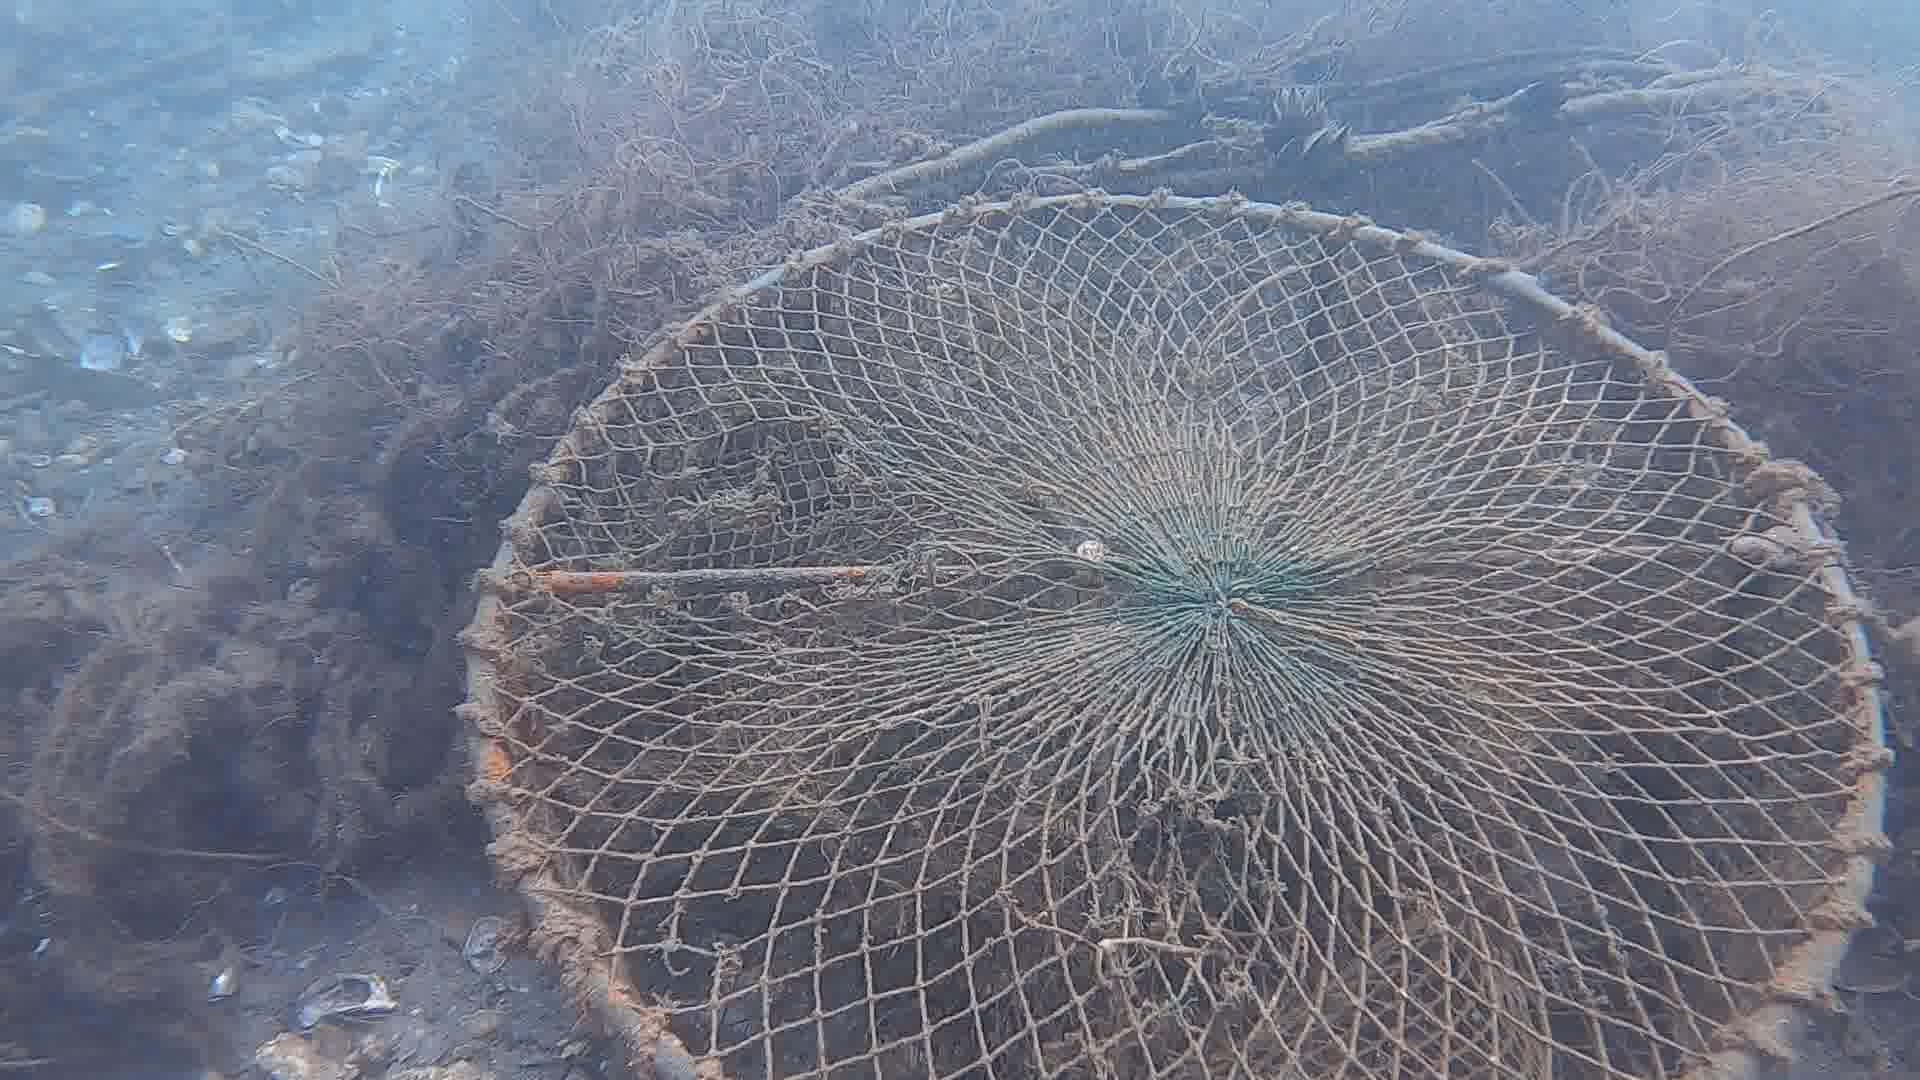circular fish trap: (462, 187, 1888, 1080)
